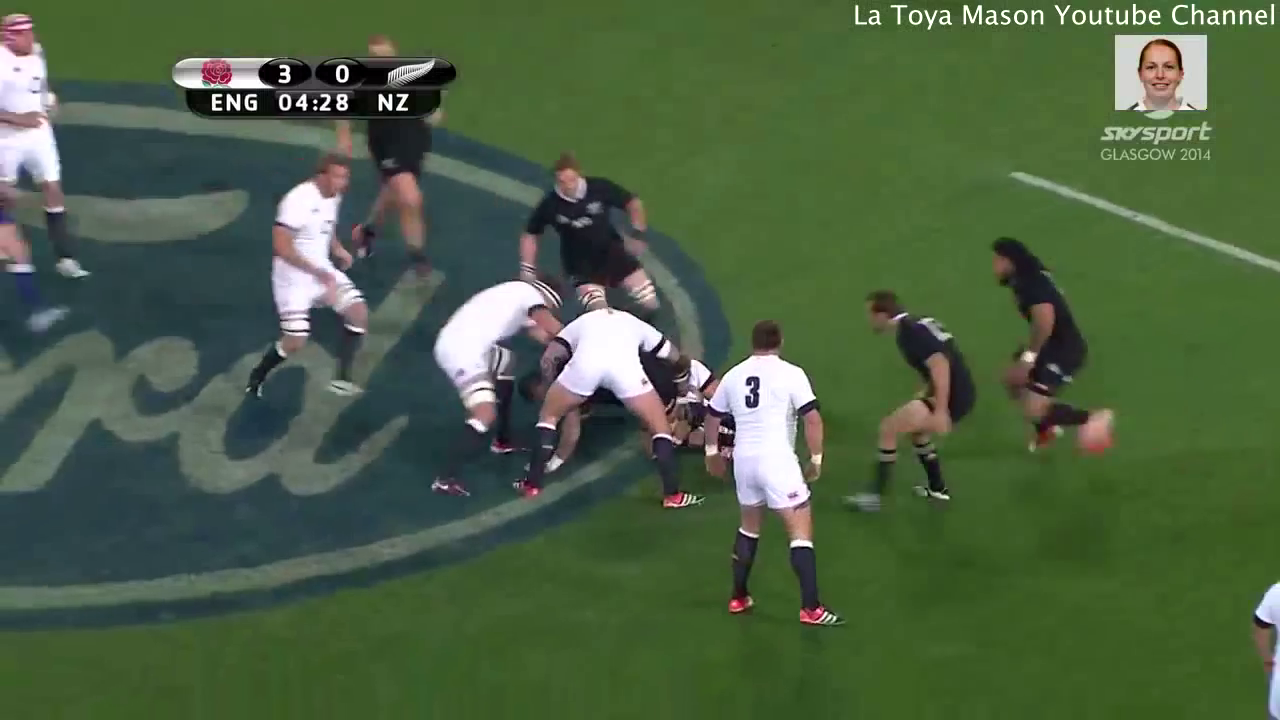player: (987, 231, 1126, 483), (241, 152, 365, 413), (726, 319, 830, 627), (846, 283, 964, 521), (421, 282, 551, 496), (513, 315, 665, 496), (1, 17, 92, 284), (337, 122, 449, 278), (522, 154, 649, 279)
ruck: (517, 339, 746, 470)
